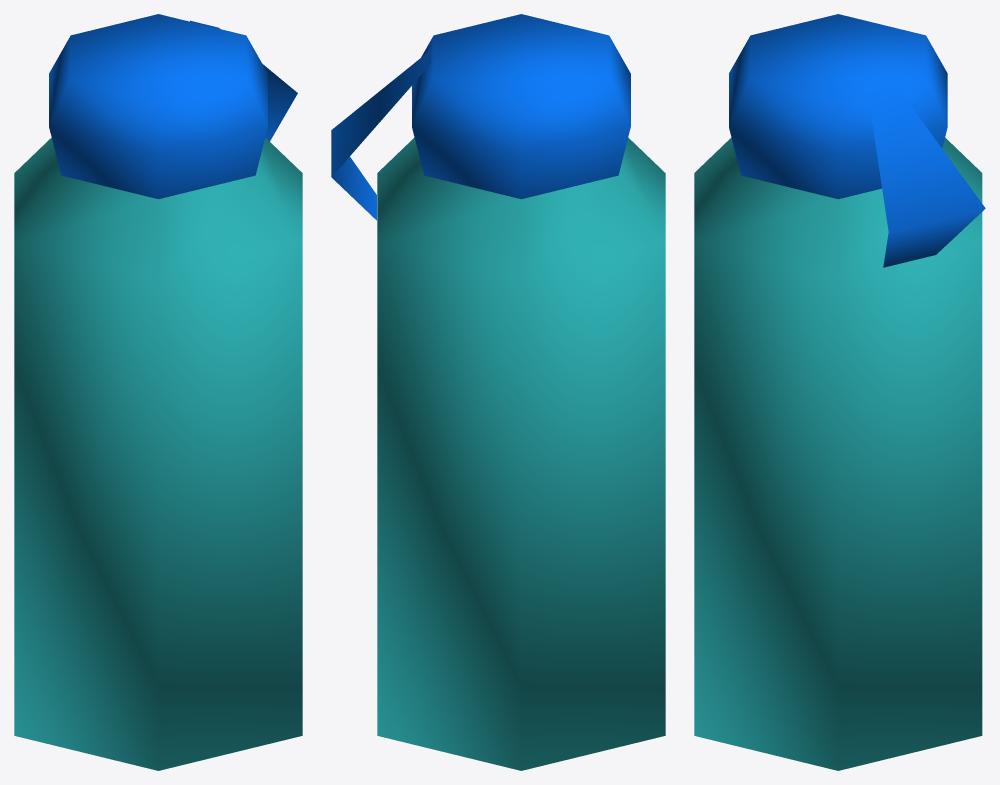
Rendered from Bottle_E.FBX.
The picture shows the model from 3 angles, left to right: view 1: azimuth 30°, elevation 25°; view 2: azimuth 150°, elevation 25°; view 3: azimuth 270°, elevation 25°; orthographic projection.
Parts seen in each view (by area): view 1: Bottle; view 2: Bottle; view 3: Bottle.
Boxes of the visible parts, x1,y1,x2,y2 form: Bottle: (14,14,302,770); Bottle: (331,14,665,770); Bottle: (694,14,985,770).
Bounding box in the file's own units: 38.23 × 76.16 × 31.27.
